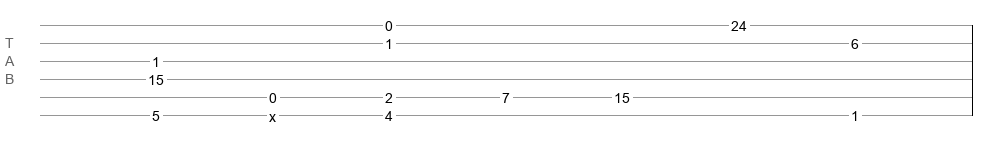0: (269, 90, 277, 100), (385, 18, 393, 28)
1: (152, 54, 160, 64), (385, 36, 393, 46), (851, 108, 859, 118)
15: (148, 72, 164, 82), (614, 90, 630, 100)
2: (385, 90, 393, 100)
24: (731, 18, 747, 28)
4: (385, 108, 393, 118)
5: (152, 108, 160, 118)
6: (851, 36, 859, 46)
7: (502, 90, 510, 100)
x: (269, 109, 276, 117)
